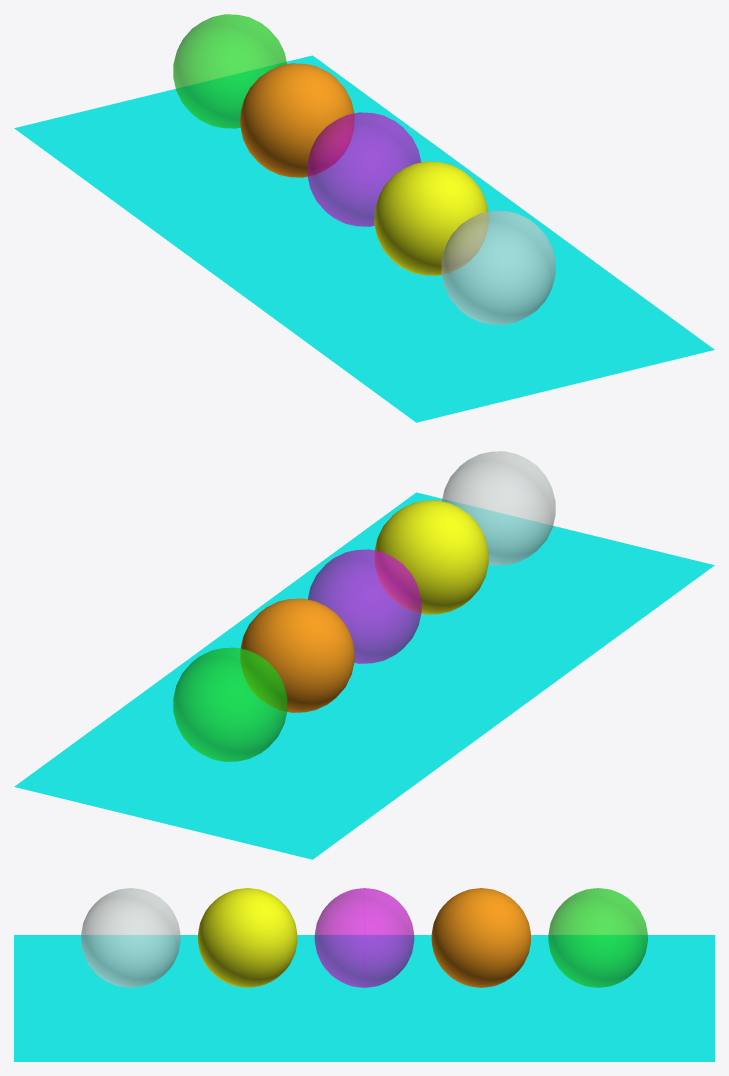
3 renders of one model, top to bottom at view 1: azimuth 30°, elevation 25°; view 2: azimuth 150°, elevation 25°; view 3: azimuth 270°, elevation 25°, orthographic. The views are drawn at different scales.
Visible parts, largest first — view 1: Plane001, GeoSphere005, GeoSphere002, GeoSphere004, GeoSphere001, GeoSphere003; view 2: Plane001, GeoSphere001, GeoSphere004, GeoSphere002, GeoSphere005, GeoSphere003; view 3: Plane001, GeoSphere003, GeoSphere001, GeoSphere005, GeoSphere002, GeoSphere004.
Boxes of the visible parts, bbox=[...] form: Plane001: bbox=[14, 55, 714, 422]; GeoSphere005: bbox=[441, 210, 555, 324]; GeoSphere002: bbox=[240, 63, 354, 177]; GeoSphere004: bbox=[374, 161, 488, 275]; GeoSphere001: bbox=[173, 14, 286, 128]; GeoSphere003: bbox=[307, 112, 421, 226]; Plane001: bbox=[14, 492, 714, 859]; GeoSphere001: bbox=[173, 647, 287, 761]; GeoSphere004: bbox=[374, 500, 488, 614]; GeoSphere002: bbox=[240, 598, 354, 712]; GeoSphere005: bbox=[442, 451, 555, 565]; GeoSphere003: bbox=[307, 549, 421, 663]; Plane001: bbox=[14, 935, 714, 1061]; GeoSphere003: bbox=[314, 888, 414, 987]; GeoSphere001: bbox=[548, 888, 647, 987]; GeoSphere005: bbox=[81, 888, 180, 987]; GeoSphere002: bbox=[431, 888, 530, 987]; GeoSphere004: bbox=[198, 888, 297, 987].
Size of the model in its own units: 90 by 35 by 210.
